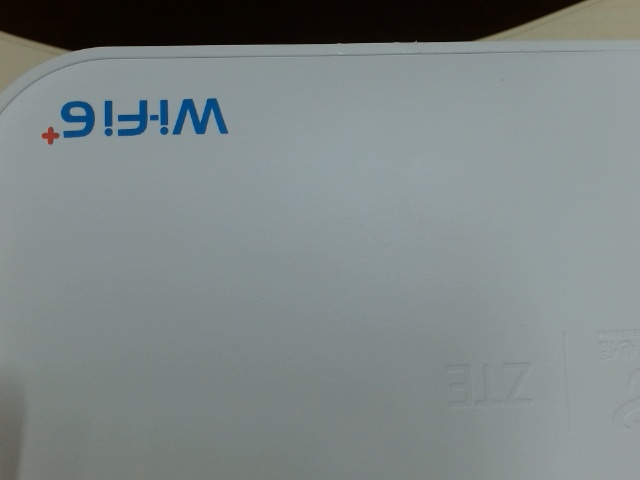AJ_ZTEWIFI6Plus: (30, 91, 239, 151)
